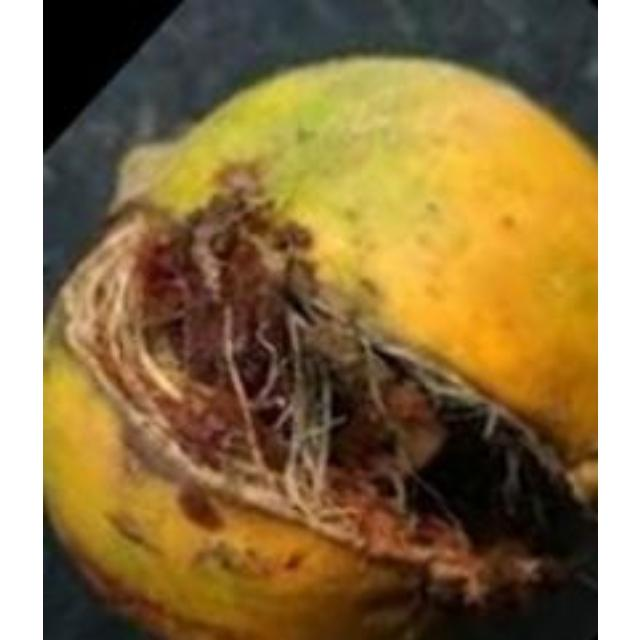damaged: (42, 53, 594, 637)
